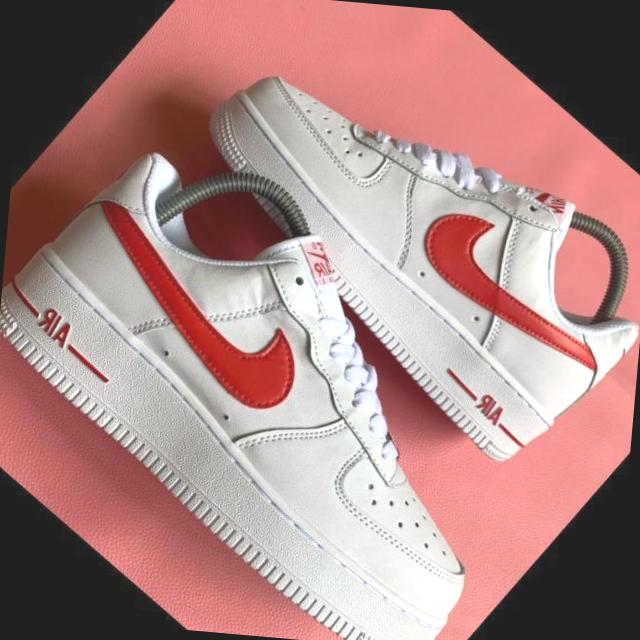nike_original_airforce: (0, 85, 616, 640), (136, 0, 640, 490)
